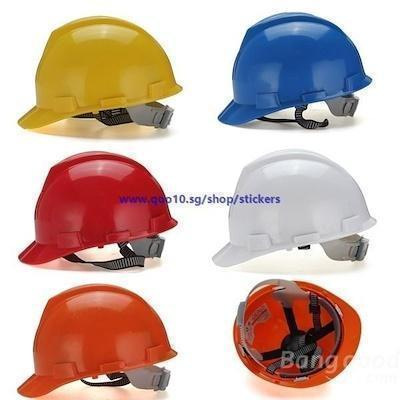helmet: (14, 11, 181, 137), (208, 149, 377, 270), (15, 149, 179, 267), (15, 279, 177, 398), (215, 11, 373, 131)
